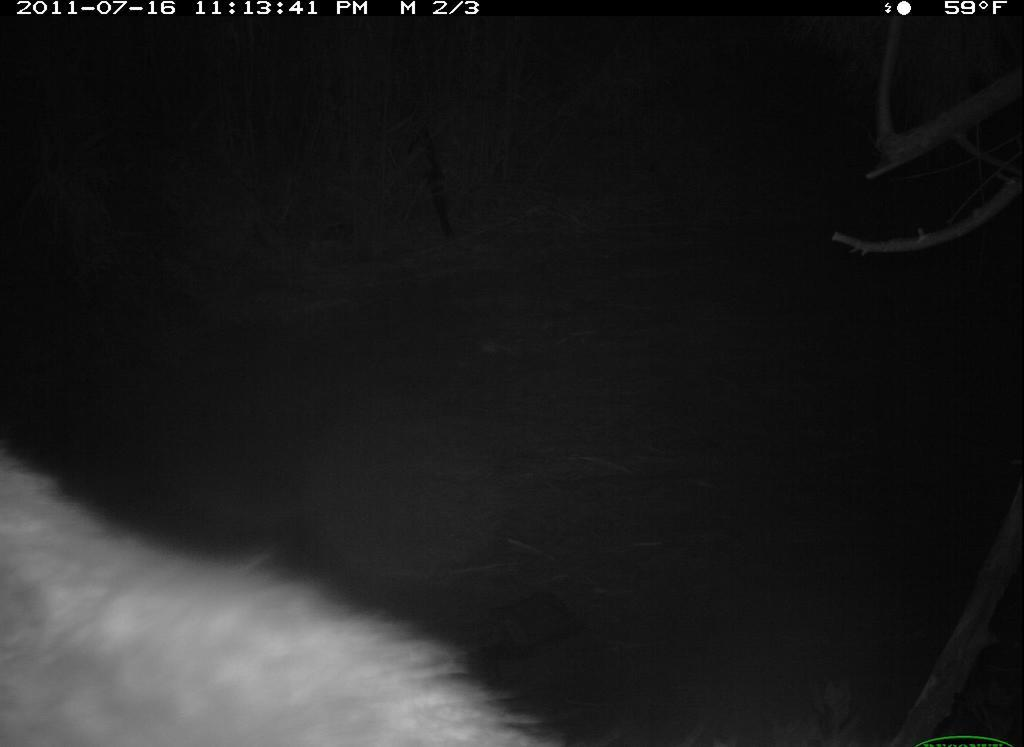raccoon: (1, 438, 588, 747)
